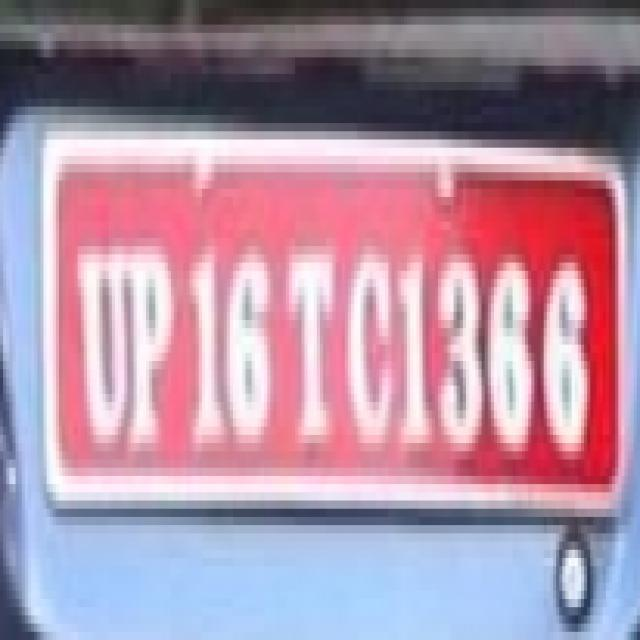1: (398, 242, 437, 454), (190, 235, 222, 445)
3: (439, 252, 482, 457)
6: (542, 240, 594, 474), (483, 242, 537, 462), (225, 240, 274, 443)
C: (342, 235, 396, 458)
P: (130, 240, 173, 450)
T: (282, 238, 340, 456)
U: (72, 237, 130, 450)
